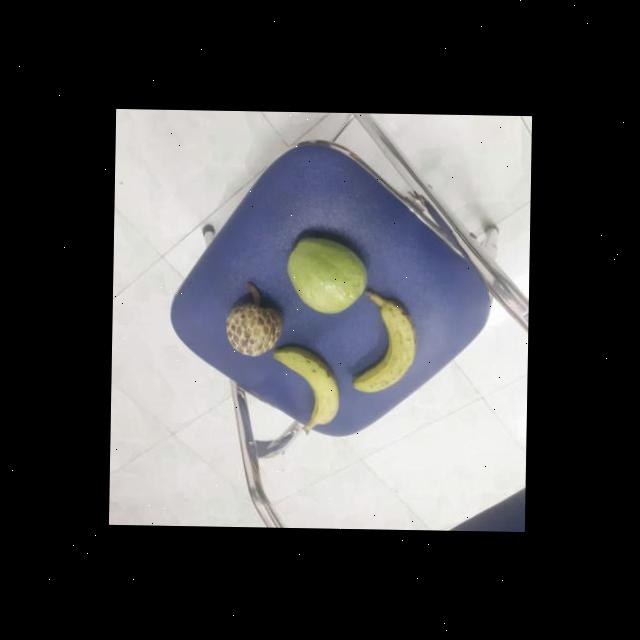Sakya fruit: (225, 286, 285, 358)
banana: (348, 296, 424, 392), (274, 349, 344, 431)
guava: (288, 235, 372, 312)
